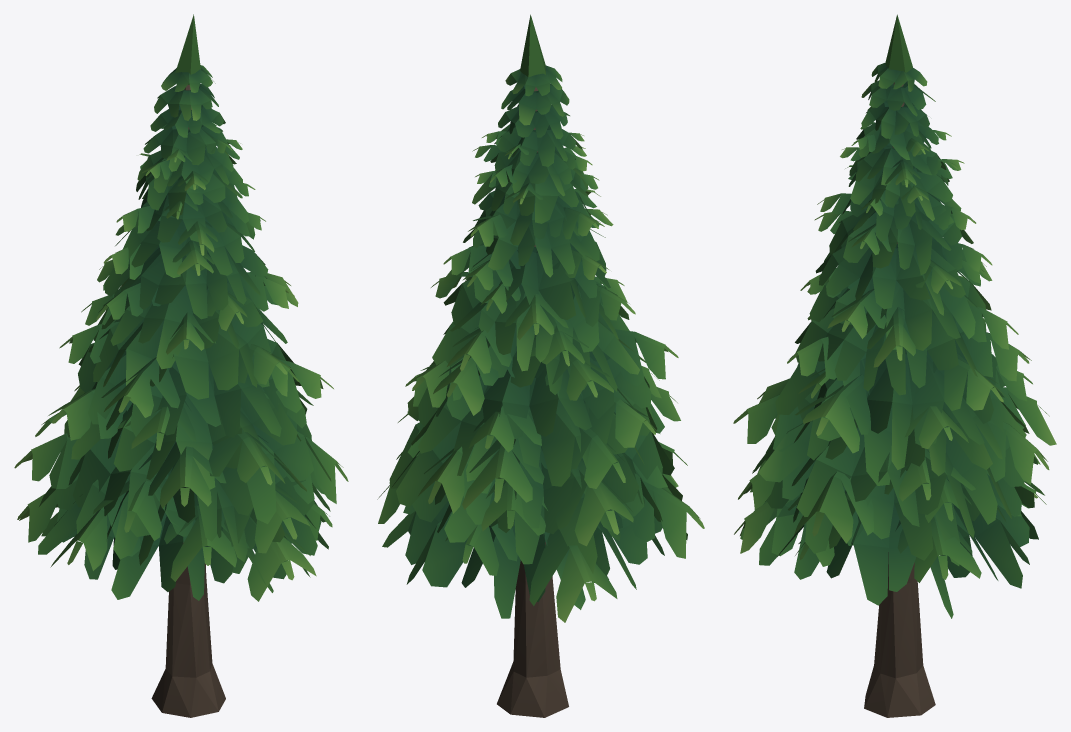
Rendered from spruce_L_normal_long_s27.glb.
3 views of the same model, side by side, from view 1: azimuth 30°, elevation 25°; view 2: azimuth 150°, elevation 25°; view 3: azimuth 270°, elevation 25° (orthographic).
Visible parts, largest first — view 1: Tree; view 2: Tree; view 3: Tree.
Boxes of the visible parts, x1,y1,x2,y2 form: Tree: (14, 14, 348, 717); Tree: (377, 14, 704, 717); Tree: (733, 14, 1056, 717).
Size of what is drawn, in the model's own units: 4.1 by 9.66 by 4.1.
